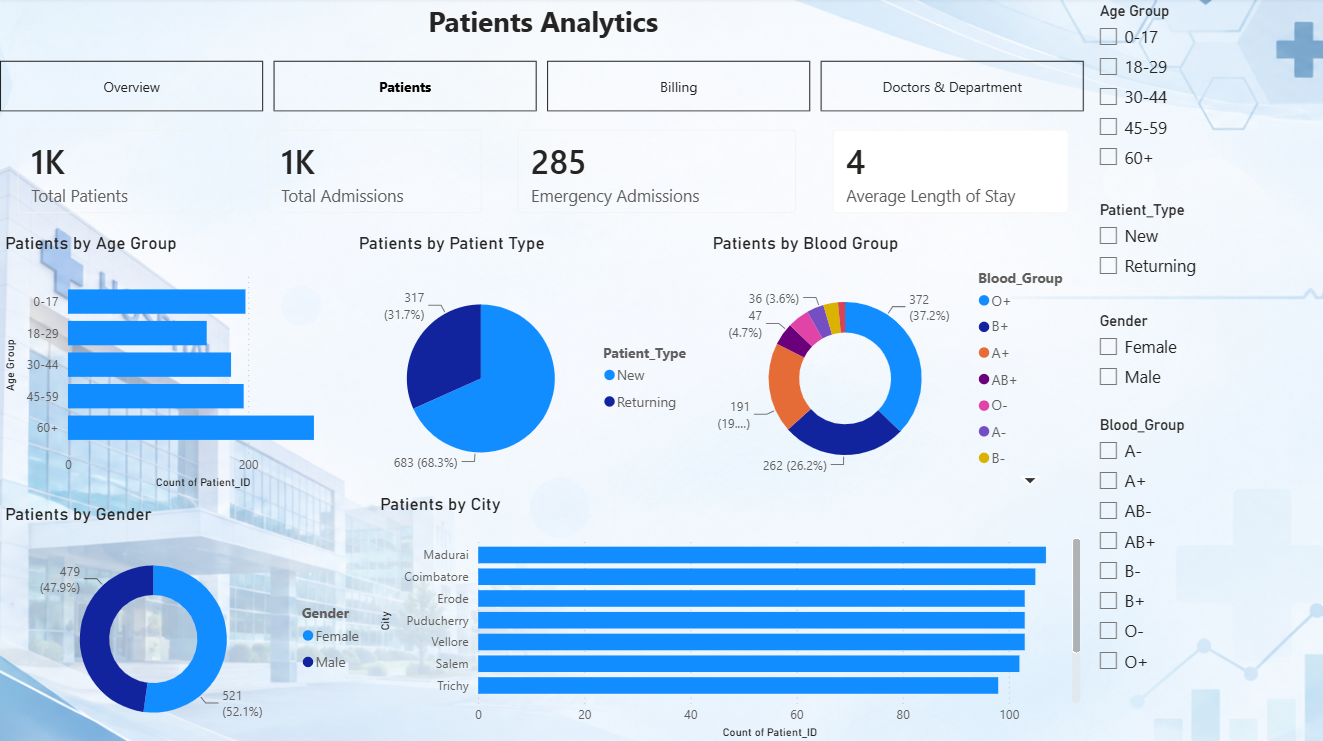

The dashboard page shown, as its layout file describes it:
{"tool":"powerbi","page":{"name":"Patients","canvas":[1280,720],"ordinal":1},"visuals":[{"type":"textbox","box":[0,0,1048.4,61.7],"z":0},{"type":"pageNavigator","box":[0,61.7,1048.4,49.4],"z":1000},{"type":"cardVisual","fields":{"Data":["Admissions.Total Patients"]},"box":[0,111.1,241.5,115.3],"z":2000},{"type":"cardVisual","fields":{"Data":["Admissions.Total Admissions"]},"box":[241.5,111.1,241.5,115.3],"z":3000},{"type":"cardVisual","fields":{"Data":["Admissions.Average Length of Stay"]},"box":[786.3,111.1,262.1,115.3],"z":4000},{"type":"cardVisual","fields":{"Data":["Admissions.Emergency Admissions"]},"box":[483,111.1,303.3,115.3],"z":5000},{"type":"clusteredBarChart","title":"Patients by Age Group","fields":{"Category":["Patients.Age Group"],"Y":["CountNonNull(Patients.Patient_ID)"]},"box":[0,226.4,341.7,252.5],"z":6000},{"type":"pieChart","title":"Patients by Patient Type","fields":{"Category":["Patients.Patient_Type"],"Y":["CountNonNull(Patients.Patient_ID)"]},"box":[341.7,226.4,341.7,252.5],"z":7000},{"type":"donutChart","title":"Patients by Blood Group","fields":{"Category":["Patients.Blood_Group"],"Y":["CountNonNull(Patients.Patient_ID)"]},"box":[683.4,226.4,365,252.5],"z":8000},{"type":"donutChart","title":"Patients by Gender","fields":{"Category":["Patients.Gender"],"Y":["CountNonNull(Patients.Patient_ID)"]},"box":[0,488.5,362.3,231.9],"z":9000},{"type":"barChart","title":"Patients by City","fields":{"Category":["Patients.City"],"Y":["CountNonNull(Patients.Patient_ID)"]},"box":[362.3,478.9,686.1,241.5],"z":10000},{"type":"slicer","fields":{"Values":["Patients.Age Group"]},"box":[1048.4,0,231.9,192.1],"z":11000},{"type":"slicer","fields":{"Values":["Patients.Patient_Type"]},"box":[1048.4,192.1,231.9,107],"z":12000},{"type":"slicer","fields":{"Values":["Patients.Gender"]},"box":[1048.4,299.1,231.9,100.2],"z":13000},{"type":"slicer","fields":{"Values":["Patients.Blood_Group"]},"box":[1048.4,399.3,231.9,286.8],"z":14000}]}

Visuals, with their boxes in screenshot pixels (x1, y1, x2, y2), scaled from the page's 1280x720 canvas onto the 1323x741 screenshot:
textbox: (x1=0, y1=0, x2=1084, y2=63)
pageNavigator: (x1=0, y1=63, x2=1084, y2=114)
cardVisual - Admissions.Total Patients: (x1=0, y1=114, x2=250, y2=233)
cardVisual - Admissions.Total Admissions: (x1=250, y1=114, x2=499, y2=233)
cardVisual - Admissions.Average Length of Stay: (x1=813, y1=114, x2=1084, y2=233)
cardVisual - Admissions.Emergency Admissions: (x1=499, y1=114, x2=813, y2=233)
"Patients by Age Group" clusteredBarChart: (x1=0, y1=233, x2=353, y2=493)
"Patients by Patient Type" pieChart: (x1=353, y1=233, x2=706, y2=493)
"Patients by Blood Group" donutChart: (x1=706, y1=233, x2=1084, y2=493)
"Patients by Gender" donutChart: (x1=0, y1=503, x2=374, y2=740)
"Patients by City" barChart: (x1=374, y1=493, x2=1084, y2=740)
slicer - Patients.Age Group: (x1=1084, y1=0, x2=1322, y2=198)
slicer - Patients.Patient_Type: (x1=1084, y1=198, x2=1322, y2=308)
slicer - Patients.Gender: (x1=1084, y1=308, x2=1322, y2=411)
slicer - Patients.Blood_Group: (x1=1084, y1=411, x2=1322, y2=706)
